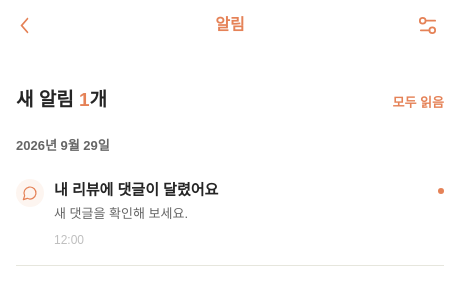
Test case: 알림함 › 모두 읽음을 누르면 서버 결과를 반영한다
Expected: the button "내 리뷰에 댓글이 달렸어요 새 댓글을 확인해 보세요. 12:00" is shown, [16,162,444,266]
Click the button "모두 읽음": (418, 102) [392,94,444,111]
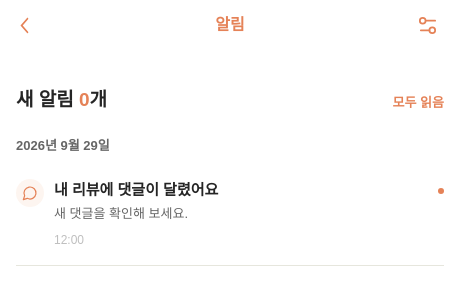
Now the text "0" is shown, box [79,89,90,110]
